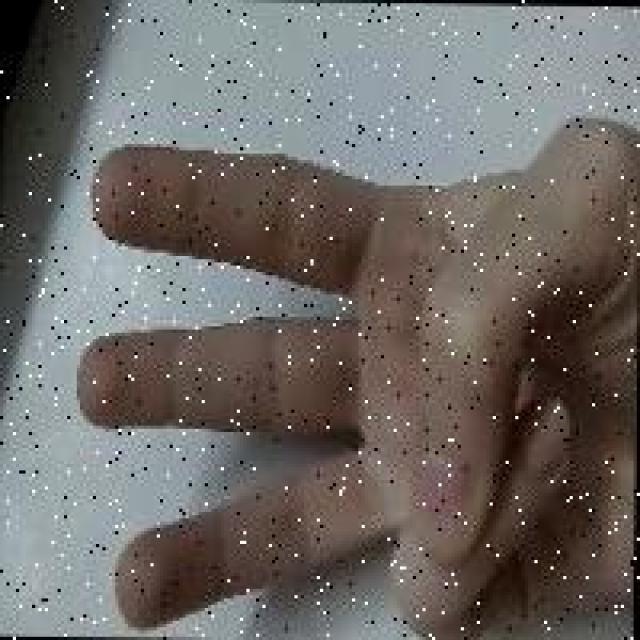W: (0, 67, 547, 640)
